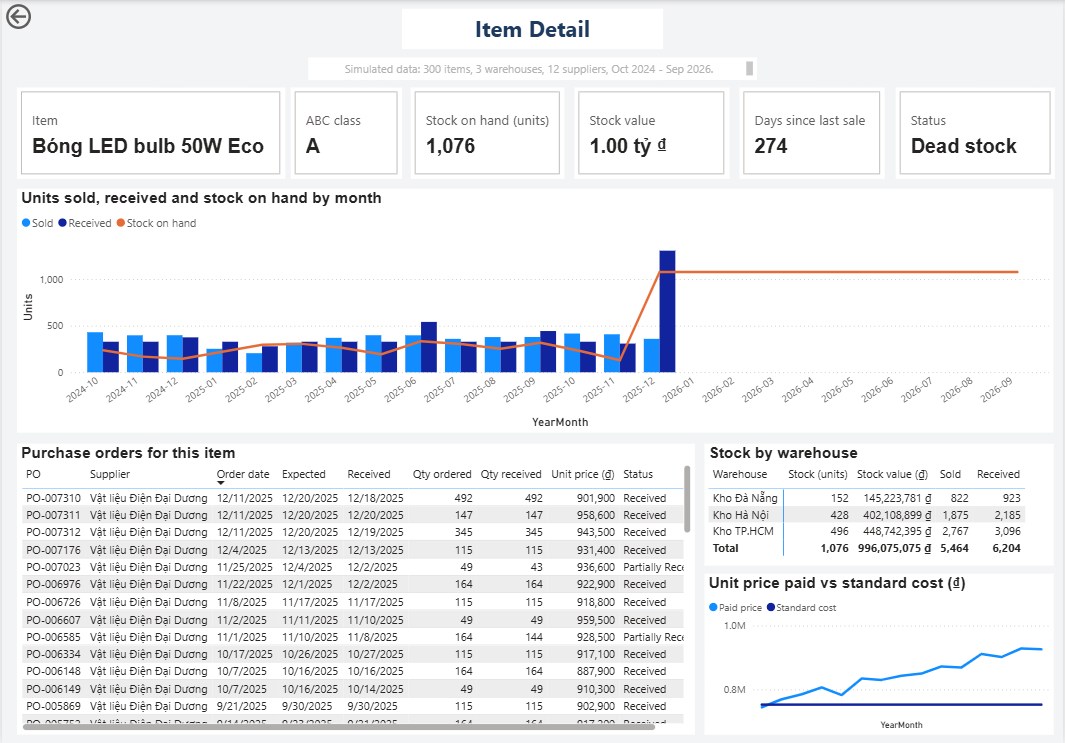

Layout of this report page (visuals, bound fields, positions):
{"tool":"powerbi","page":{"name":"Item Detail","canvas":[1280,900],"ordinal":3},"visuals":[{"type":"textbox","box":[482.7,10.2,314.9,48.6],"z":0},{"type":"textbox","box":[369.3,70,541.4,27.1],"z":1},{"type":"actionButton","box":[0,0,100,40],"z":2},{"type":"cardVisual","fields":{"Data":["Min(Dim_Item.ABC Class)"]},"box":[348.2,106.3,134.4,110.1],"z":3},{"type":"cardVisual","fields":{"Data":["_Measures.Days Since Last Sale"]},"box":[891.1,106.3,175.4,110.1],"z":4},{"type":"cardVisual","fields":{"Data":["_Measures.Closing Stock Value (Display)"]},"box":[691.3,106.3,186.9,110.1],"z":5},{"type":"cardVisual","fields":{"Data":["_Measures.Dead Stock Status"]},"box":[1079.3,106.3,192,110.1],"z":6},{"type":"cardVisual","fields":{"Data":["Min(Dim_Item.item_name)"]},"box":[17.9,106.3,323.9,110.1],"z":7},{"type":"cardVisual","fields":{"Data":["_Measures.Closing Stock Qty (Display)"]},"box":[494.2,106.3,185.6,110.1],"z":8},{"type":"lineClusteredColumnComboChart","title":"Units sold, received and stock on hand by month","fields":{"Category":["Dim_Date.YearMonth"],"Y":["_Measures.Units Sold","_Measures.Units Received"],"Y2":["_Measures.Closing Stock Qty"]},"box":[18.6,227.1,1251.4,294.3],"z":9},{"type":"pivotTable","title":"Stock by warehouse","fields":{"Rows":["Dim_Warehouse.warehouse_name"],"Values":["_Measures.Closing Stock Qty","_Measures.Closing Stock Value","_Measures.Units Sold","_Measures.Units Received"]},"box":[848.6,535.7,421.4,147.1],"z":10},{"type":"tableEx","title":"Purchase orders for this item","fields":{"Values":["Fact_PurchaseOrder.po_id","Dim_Supplier.Supplier Short","Fact_PurchaseOrder.order_date","Fact_PurchaseOrder.expected_date","Fact_PurchaseOrder.received_date","Sum(Fact_PurchaseOrder.qty_ordered)","Sum(Fact_PurchaseOrder.qty_received)","Sum(Fact_PurchaseOrder.unit_price)","Fact_PurchaseOrder.status"]},"box":[18.6,535.7,818.6,351.4],"z":11},{"type":"lineChart","title":"Unit price paid vs standard cost (₫)","fields":{"Category":["Dim_Date.YearMonth"],"Y":["_Measures.Avg Paid Unit Price","_Measures.Avg Standard Unit Cost"]},"box":[848.6,692.9,421.4,194.3],"z":12}]}

Visuals, with their boxes in screenshot pixels (x1, y1, x2, y2), scaled from the page's 1280x900 canvas onto the 1065x743 screenshot:
textbox: Rect(402, 8, 664, 49)
textbox: Rect(307, 58, 758, 80)
actionButton: Rect(0, 0, 83, 33)
cardVisual - Min(Dim_Item.ABC Class): Rect(290, 88, 402, 179)
cardVisual - _Measures.Days Since Last Sale: Rect(741, 88, 887, 179)
cardVisual - _Measures.Closing Stock Value (Display): Rect(575, 88, 731, 179)
cardVisual - _Measures.Dead Stock Status: Rect(898, 88, 1058, 179)
cardVisual - Min(Dim_Item.item_name): Rect(15, 88, 284, 179)
cardVisual - _Measures.Closing Stock Qty (Display): Rect(411, 88, 566, 179)
"Units sold, received and stock on hand by month" lineClusteredColumnComboChart: Rect(15, 187, 1057, 430)
"Stock by warehouse" pivotTable: Rect(706, 442, 1057, 564)
"Purchase orders for this item" tableEx: Rect(15, 442, 697, 732)
"Unit price paid vs standard cost (₫)" lineChart: Rect(706, 572, 1057, 732)
